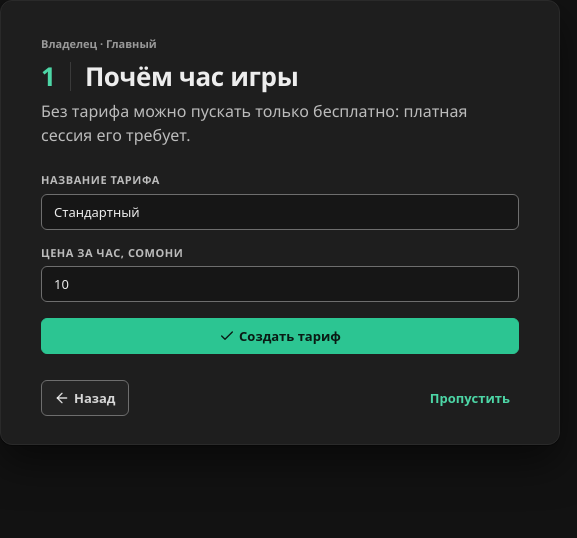
Test: TariffScreen › sends the hourly price in minor units
Replace the text in the field labelled "Название тарифа" with "Дневной" at (280, 212), box top-left (41, 194), bottom-right (519, 230)
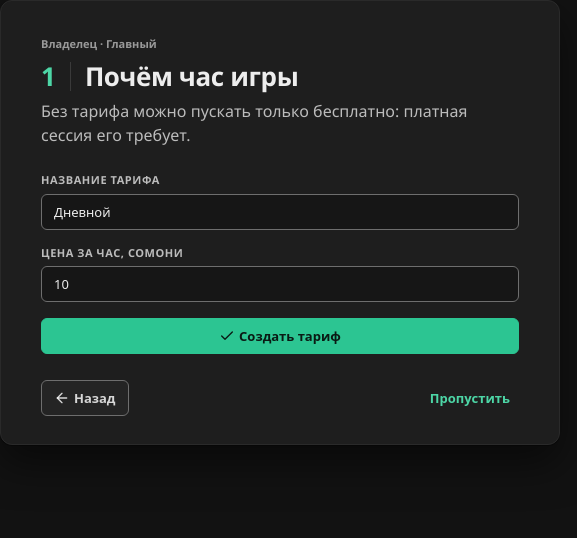
Replace the text in the number field labelled "Цена за час, сомони" with "12.5" at (280, 284), box top-left (41, 266), bottom-right (519, 302)
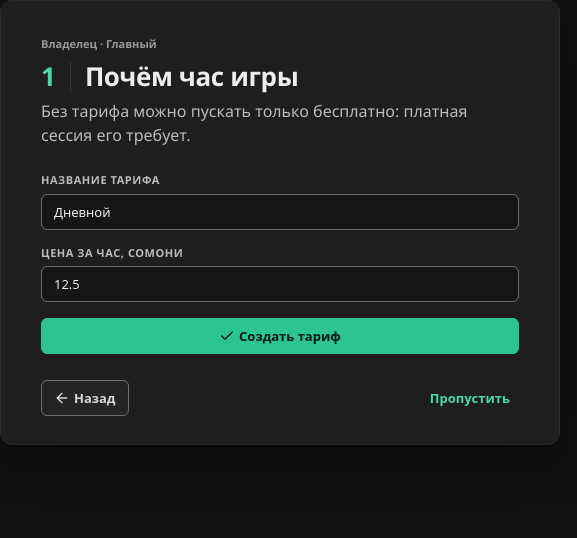
Click the button "Создать тариф" at (280, 336), box top-left (41, 318), bottom-right (519, 354)
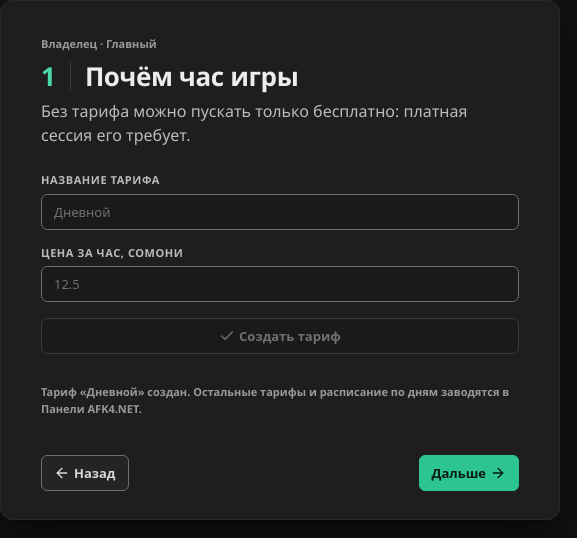
Expected: the text "Тариф «Дневной» создан" is shown, top-left (41, 385), bottom-right (509, 417)
